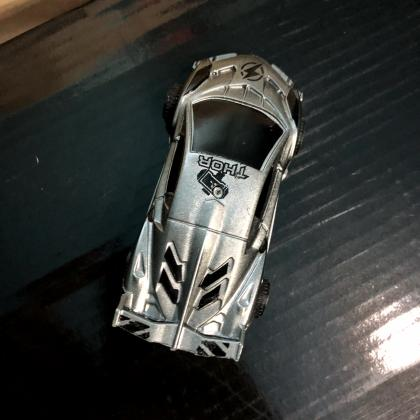Car: (111, 53, 304, 363)
